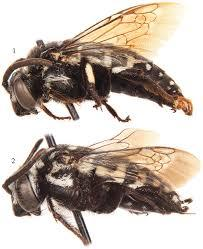Thyreus: (4, 8, 203, 130), (3, 133, 193, 242)
